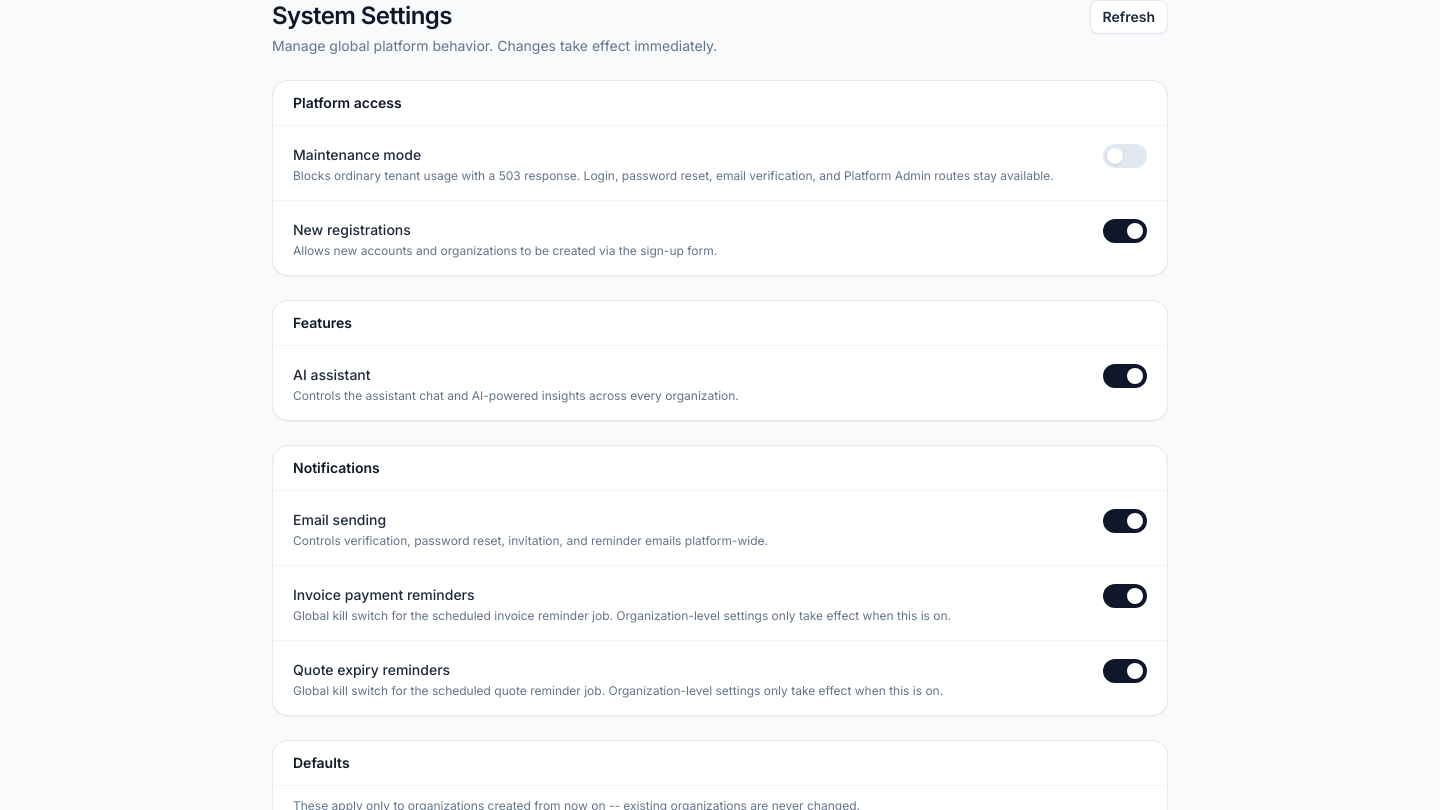
Test: PlatformSettingsPage › shows a diff summary and a specific warning when enabling maintenance mode, then saves and applies the response
Click the switch named "Maintenance mode" in the row of "Maintenance mode" at (1125, 156), box [1103,144,1147,168]
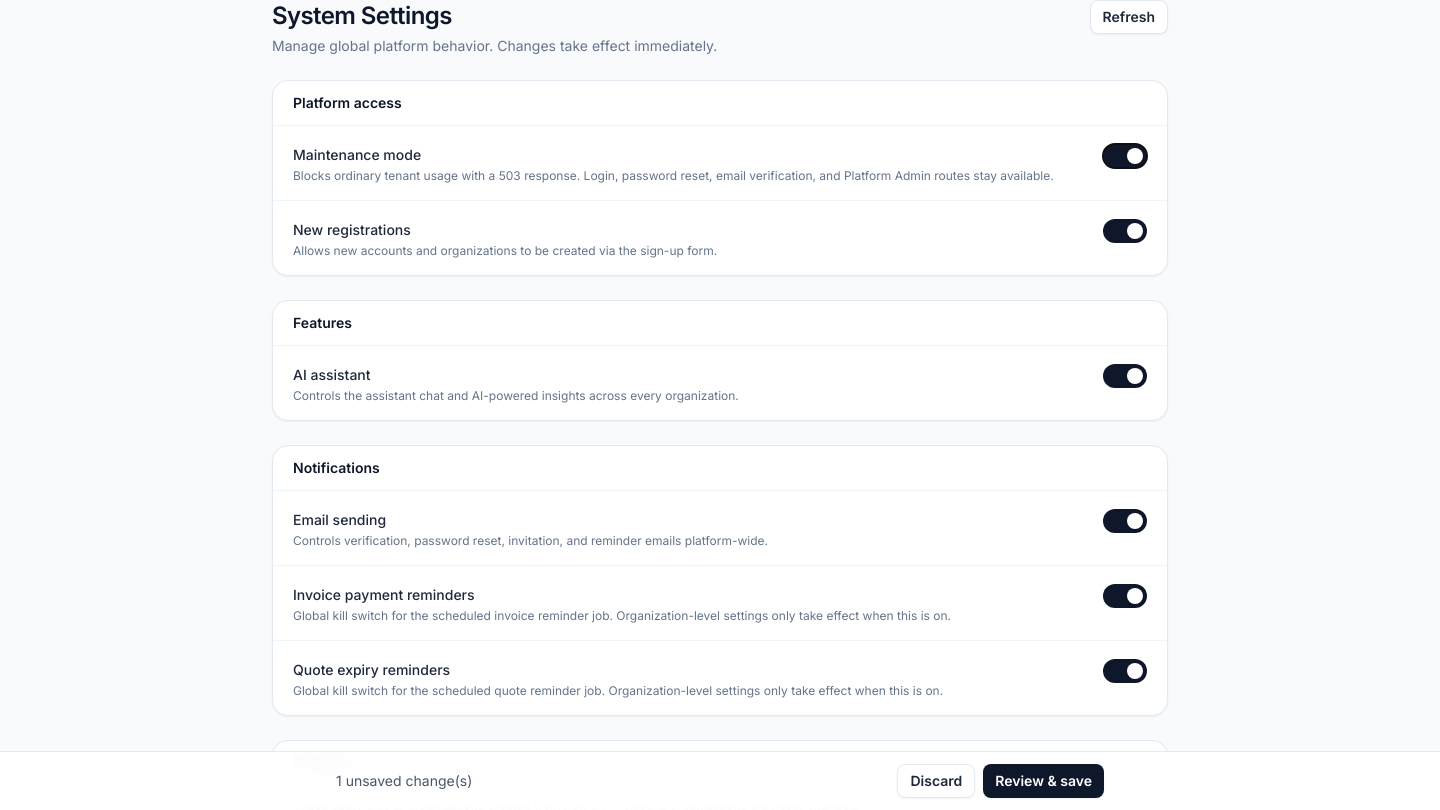
Click the button "Review & save" at (1044, 781), box [983,764,1104,798]
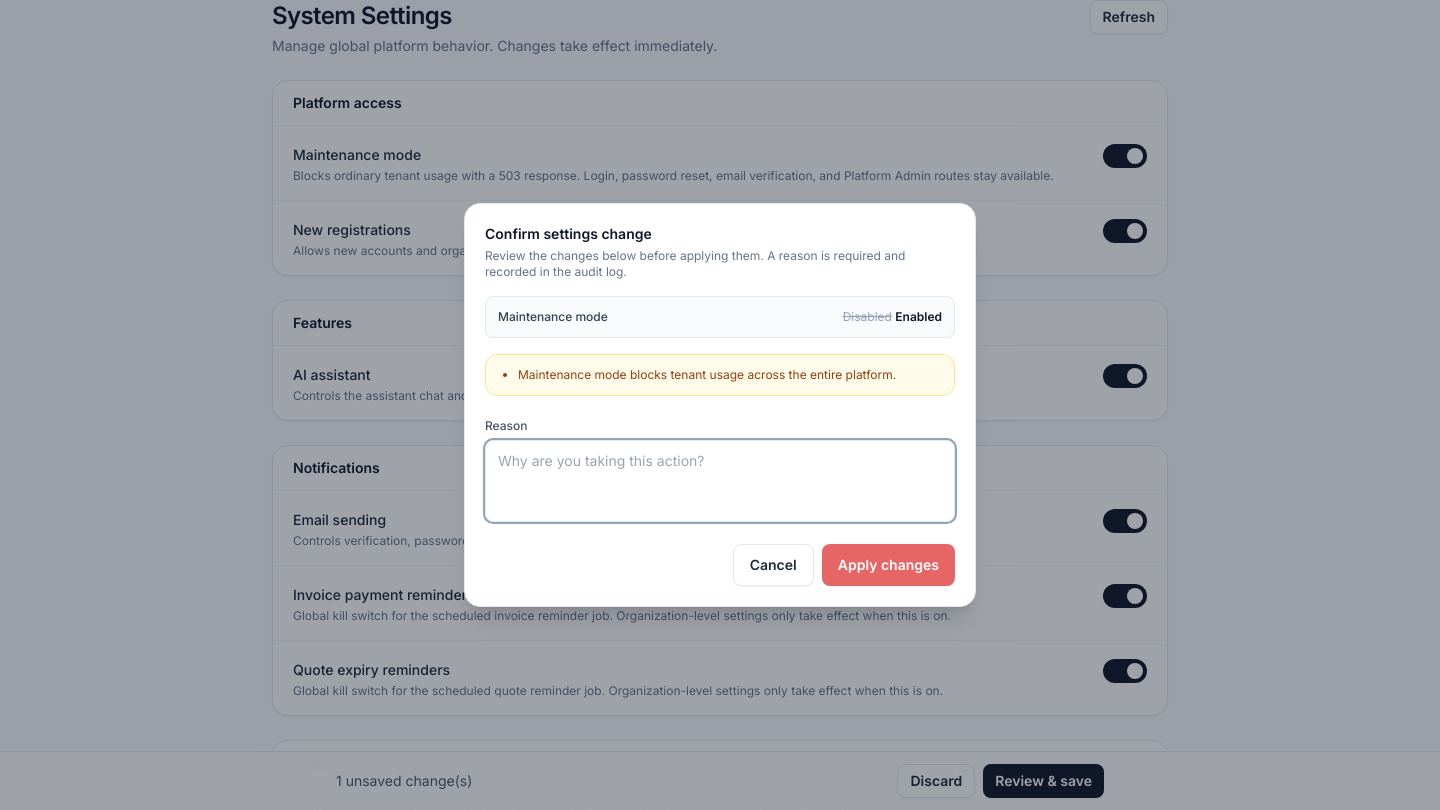
Now the list item "Maintenance mode blocks tenant usage across the entire platform." is shown, box [518,367,938,383]
Now the button "Apply changes" is disabled, box [822,544,955,586]
Type "scheduled maintenance window" into the text box labelled "Reason" at (720, 481), box [485,440,955,522]
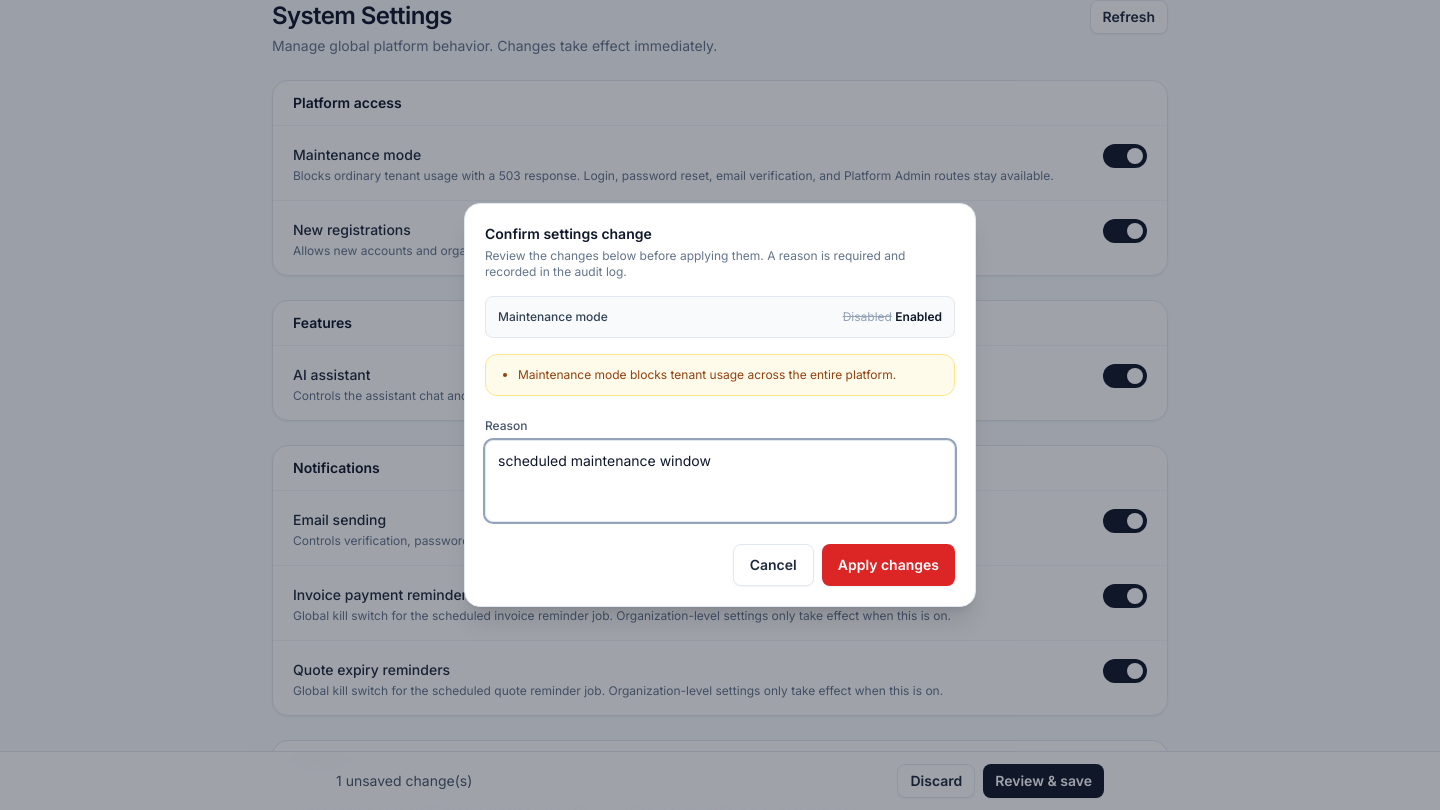
Now the button "Apply changes" is enabled
Click the button "Apply changes" at (888, 565), box [822,544,955,586]
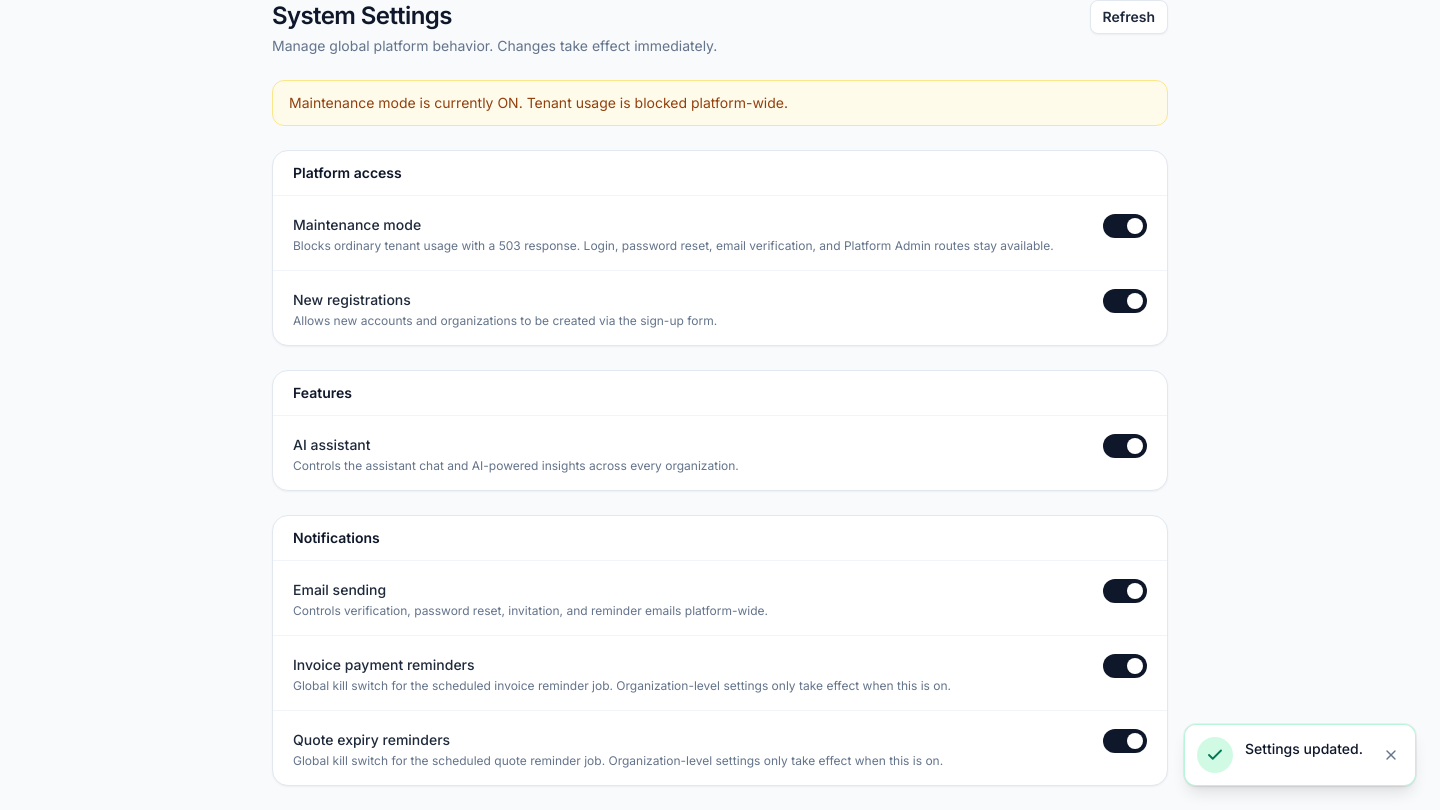
Now the dialog is gone
Now the text "Maintenance mode is currently ON. Tenant usage is blocked platform-wide." is shown, box [272,80,1168,126]
Now the text "unsaved change" is gone
